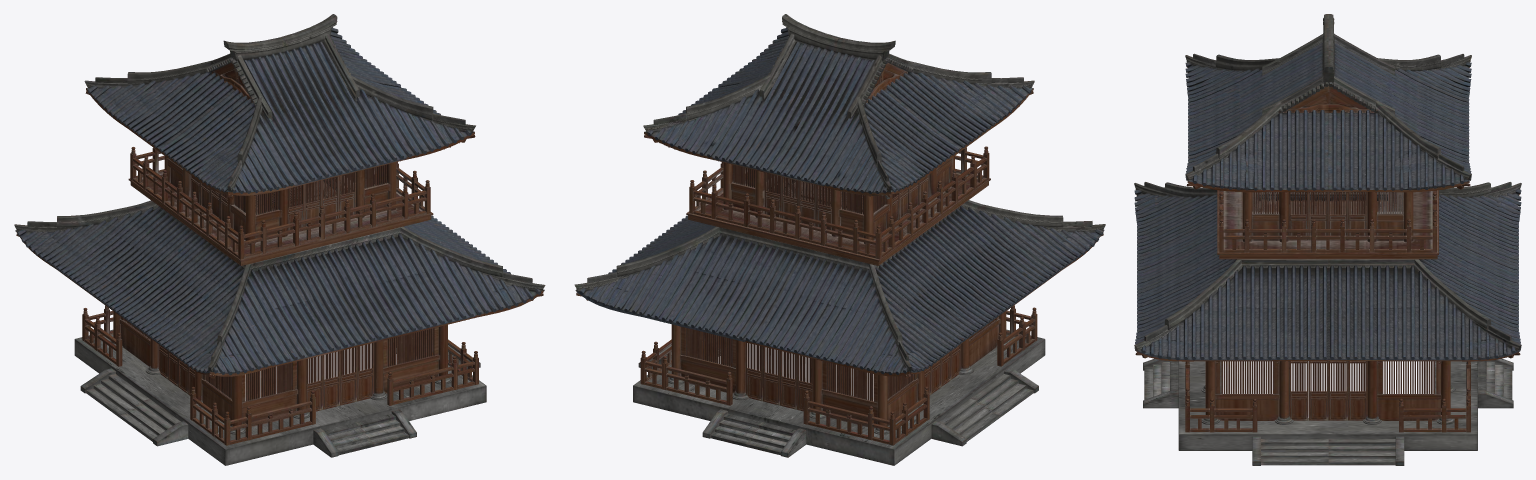
The model's file is wukong-chinese-temple-textured.glb.
The picture shows the model from 3 angles, left to right: view 1: azimuth 30°, elevation 25°; view 2: azimuth 150°, elevation 25°; view 3: azimuth 270°, elevation 25°; orthographic projection.
Parts seen in each view (by area): view 1: Chinese Temple.002; view 2: Chinese Temple.002; view 3: Chinese Temple.002.
Boxes of the visible parts, x1,y1,x2,y2 form: Chinese Temple.002: [14, 14, 545, 465]; Chinese Temple.002: [574, 14, 1105, 465]; Chinese Temple.002: [1134, 14, 1521, 465].
Bounding box in the file's own units: 15.77 × 15.63 × 15.81.
10 materials, 10 textured.
